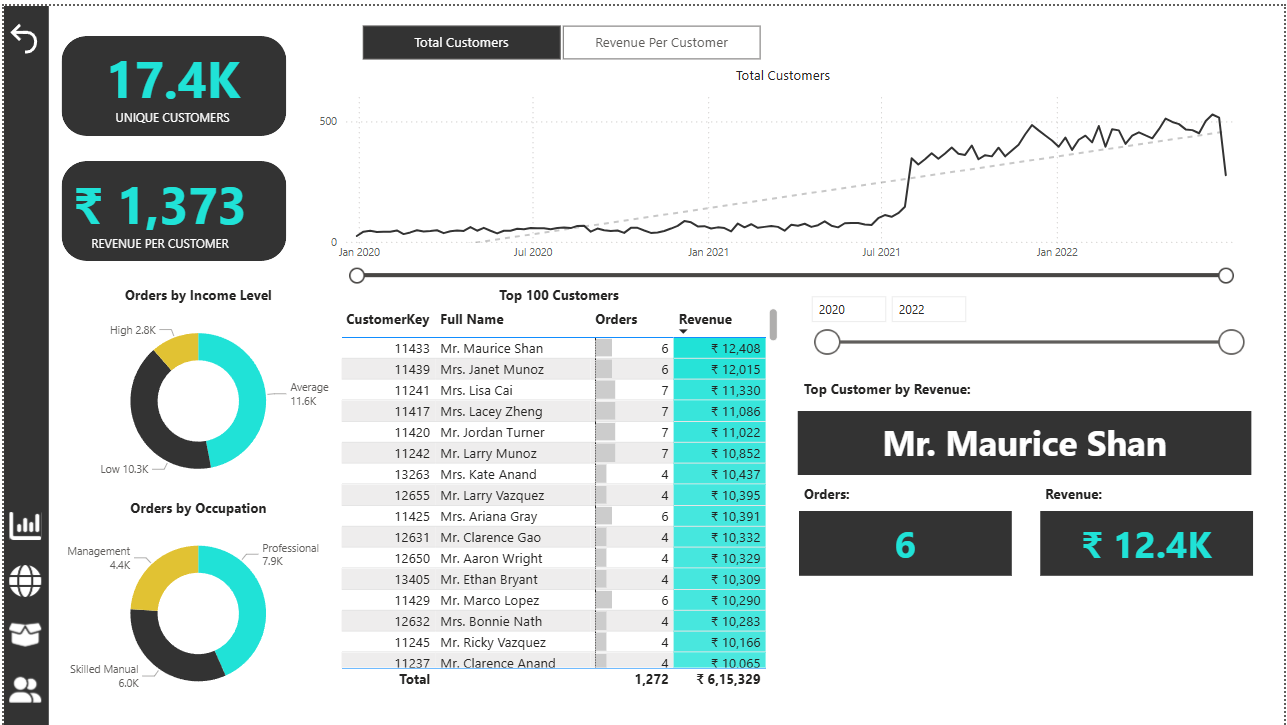

This screenshot's page, from the dashboard's own definition file:
{"tool":"powerbi","page":{"name":"Customer Details","canvas":[1280,720],"ordinal":35},"visuals":[{"type":"shape","box":[0,0,45,720],"z":0},{"type":"shape","box":[57.7,30.3,225,100],"z":1000},{"type":"shape","box":[57.7,155.3,225,100],"z":2000},{"type":"card","fields":{"Values":["Measure Table.Average Revenue Per Customer"]},"box":[16.7,130,280,150],"z":3000},{"type":"card","fields":{"Values":["Measure Table.Total Customers"]},"box":[29.3,3.7,280,150],"z":4000},{"type":"lineChart","fields":{"Category":["Calendar Lookup.Date Hierarchy.Start of Week"],"Y":["Measure Table.Total Customers"]},"box":[310,60,938,220],"z":5000},{"type":"donutChart","title":"Orders by Income Level","fields":{"Category":["Customer Lookup.Income Level"],"Y":["Measure Table.Total Orders"]},"box":[57.5,280,273.9,212.8],"z":6000},{"type":"donutChart","title":"Orders by Occupation","fields":{"Y":["Measure Table.Total Orders"],"Category":["Customer Lookup.Occupation"]},"box":[57.5,492.8,273.9,212.8],"z":7000},{"type":"tableEx","title":"Top 100 Customers ","fields":{"Values":["Customer Lookup.CustomerKey","Customer Lookup.Customer Full Name (CC)","Measure Table.Total Orders","Measure Table.Total Revenue (CC)"]},"box":[331.4,280,447.6,407.2],"z":8000},{"type":"card","fields":{"Values":["Min(Customer Lookup.Full Name)"]},"box":[793.8,405,453.8,63.8],"z":9000},{"type":"card","fields":{"Values":["Measure Table.Total Orders"]},"box":[794.8,504.8,212.8,64.8],"z":10000},{"type":"card","fields":{"Values":["Measure Table.Total Revenue (CC)"]},"box":[1035.7,504.8,212.8,64.8],"z":11000},{"type":"textbox","box":[794.8,369.1,187.1,35.5],"z":12000},{"type":"textbox","box":[795,473.8,187.5,36.2],"z":13000},{"type":"textbox","box":[1036.2,473.8,186.2,36.2],"z":14000},{"type":"slicer","fields":{"Values":["Calendar Lookup.Date.Variation.Date Hierarchy.Year"]},"box":[794.8,280,453.7,89.3],"z":15000},{"type":"actionButton","box":[0,12,46,40],"z":15001},{"type":"actionButton","box":[1,500,46,40],"z":15002},{"type":"actionButton","box":[1,554.7,46,40],"z":15003},{"type":"actionButton","box":[1,609.3,46,40],"z":15004},{"type":"actionButton","box":[1,664,46,40],"z":15005},{"type":"slicer","fields":{"Values":["Customer Meteric Selection.Customer Meteric Selection"]},"box":[332,12,448,48],"z":15006}]}

Visuals, with their boxes on the page's 1280x720 design canvas (x1, y1, x2, y2). These are canvas units, not pixel positions in the 1287x725 screenshot, which may show the page scaled, cropped or inside an application window:
shape: (0,0,45,720)
shape: (58,30,283,130)
shape: (58,155,283,255)
card - Measure Table.Average Revenue Per Customer: (17,130,297,280)
card - Measure Table.Total Customers: (29,4,309,154)
lineChart - Calendar Lookup.Date Hierarchy.Start of Week x Measure Table.Total Customers: (310,60,1248,280)
"Orders by Income Level" donutChart: (58,280,331,493)
"Orders by Occupation" donutChart: (58,493,331,706)
"Top 100 Customers " tableEx: (331,280,779,687)
card - Min(Customer Lookup.Full Name): (794,405,1248,469)
card - Measure Table.Total Orders: (795,505,1008,570)
card - Measure Table.Total Revenue (CC): (1036,505,1248,570)
textbox: (795,369,982,405)
textbox: (795,474,982,510)
textbox: (1036,474,1222,510)
slicer - Calendar Lookup.Date.Variation.Date Hierarchy.Year: (795,280,1248,369)
actionButton: (0,12,46,52)
actionButton: (1,500,47,540)
actionButton: (1,555,47,595)
actionButton: (1,609,47,649)
actionButton: (1,664,47,704)
slicer - Customer Meteric Selection.Customer Meteric Selection: (332,12,780,60)
